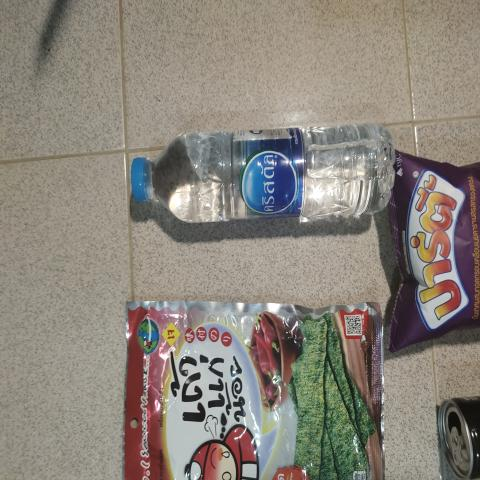crystal: (120, 120, 397, 255)
